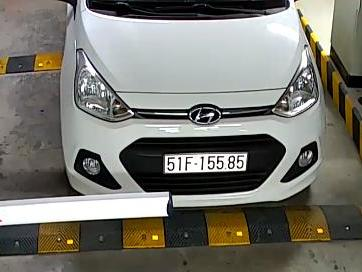number: (164, 152, 248, 174)
